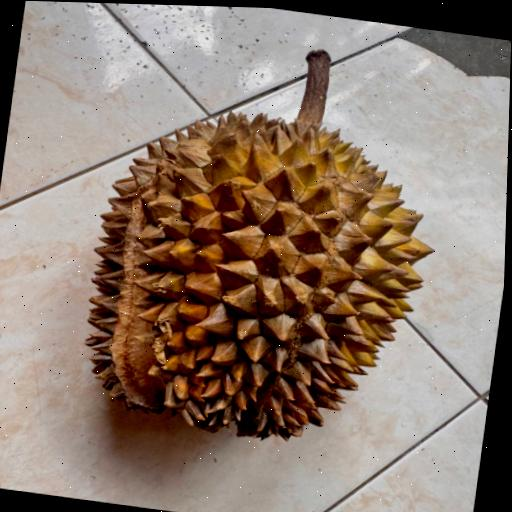rot: (26, 1, 512, 512)
